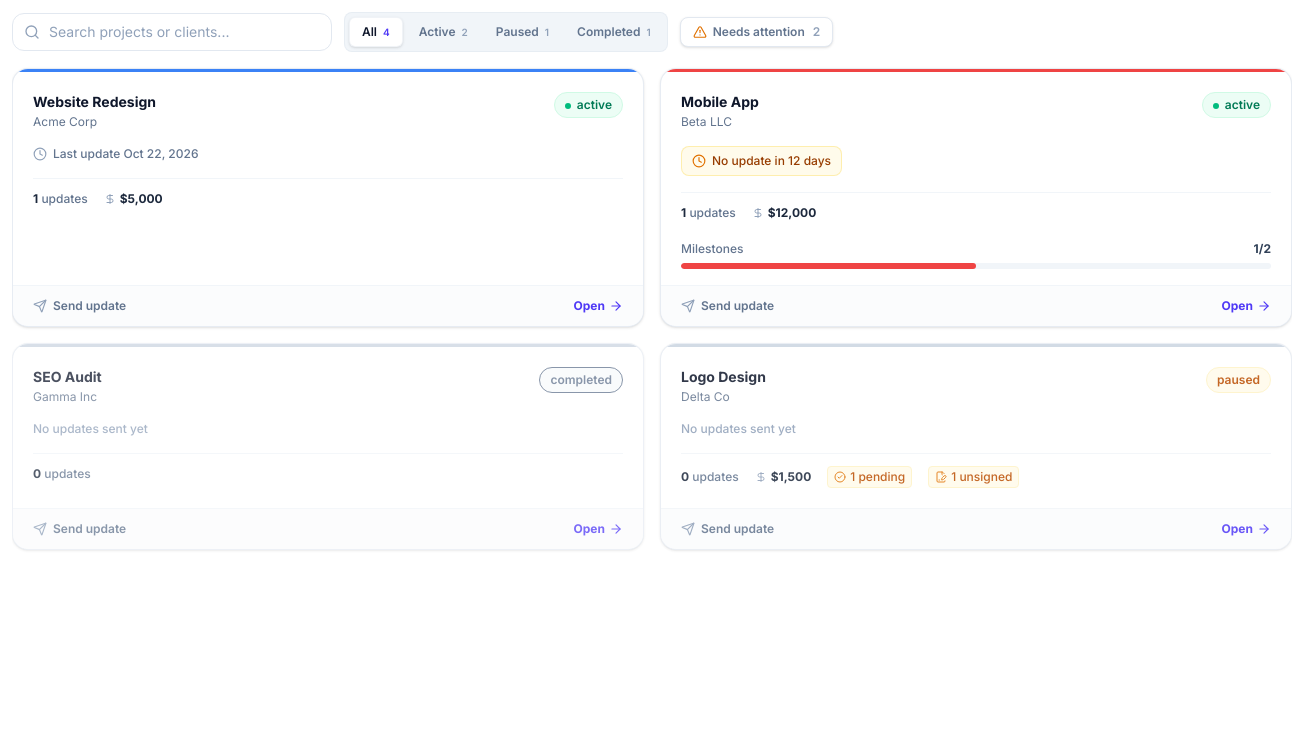
ProjectsClientGrid Component › filters by "Needs attention" correctly
// Toggle Needs Attention filter
What coordinates should you click on to do the following:
click the button "Needs attention 2"
I would click on:
 (756, 32)
Its box is [680,17,833,47].
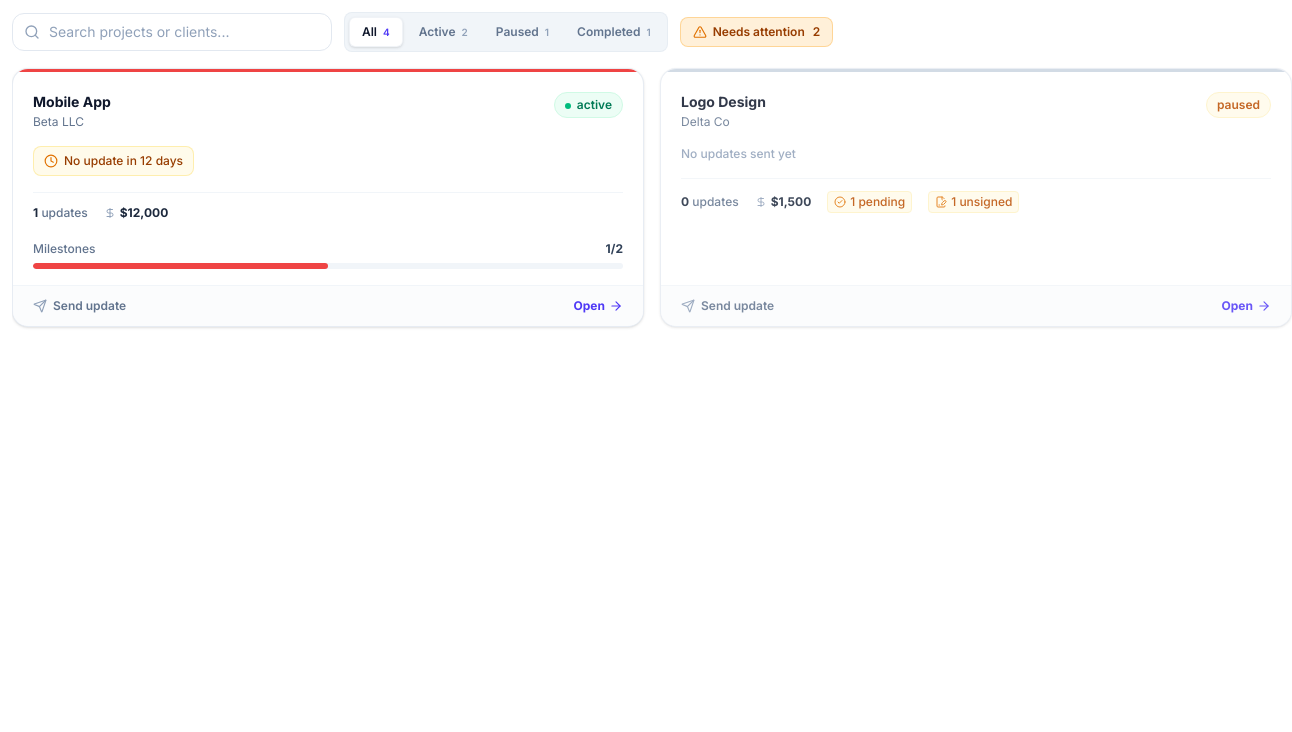
Expected: the link "Mobile App" is shown, [33,92,111,112]
Result: the link "Website Redesign" is gone
Result: the link "SEO Audit" is gone
